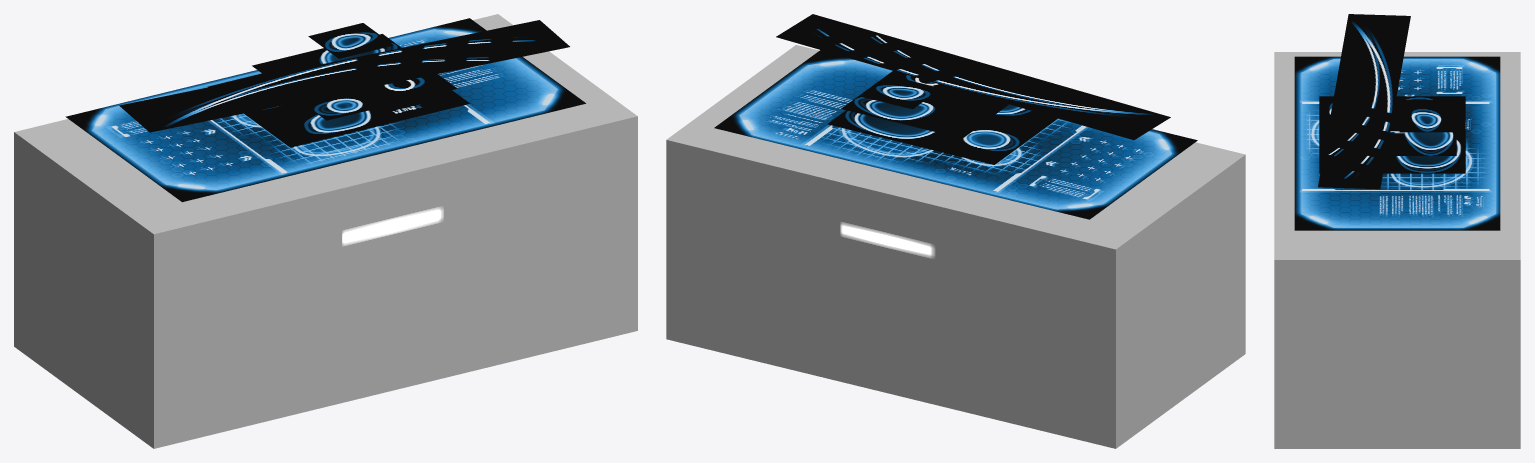
Rendered from Table_Hologram.fbx.
3 views of the same model, side by side, from view 1: azimuth 30°, elevation 25°; view 2: azimuth 150°, elevation 25°; view 3: azimuth 270°, elevation 25° (orthographic). The views are drawn at different scales.
Visible parts, largest first — view 1: Table_Hologram; view 2: Table_Hologram; view 3: Table_Hologram.
Boxes of the visible parts, x1,y1,x2,y2 form: Table_Hologram: [14, 14, 637, 448]; Table_Hologram: [666, 14, 1245, 448]; Table_Hologram: [1274, 14, 1520, 448].
Bounding box in the file's own units: 4 × 2.18 × 2.
